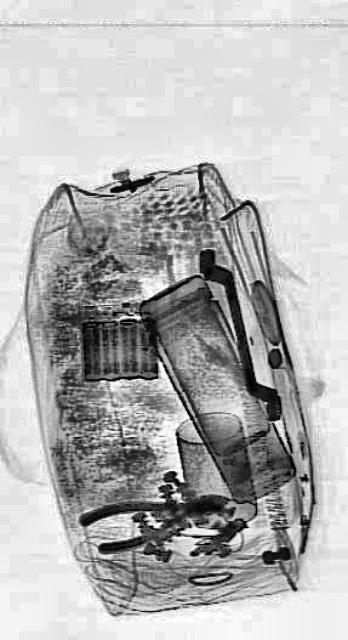Pliers: (78, 477, 230, 557)
